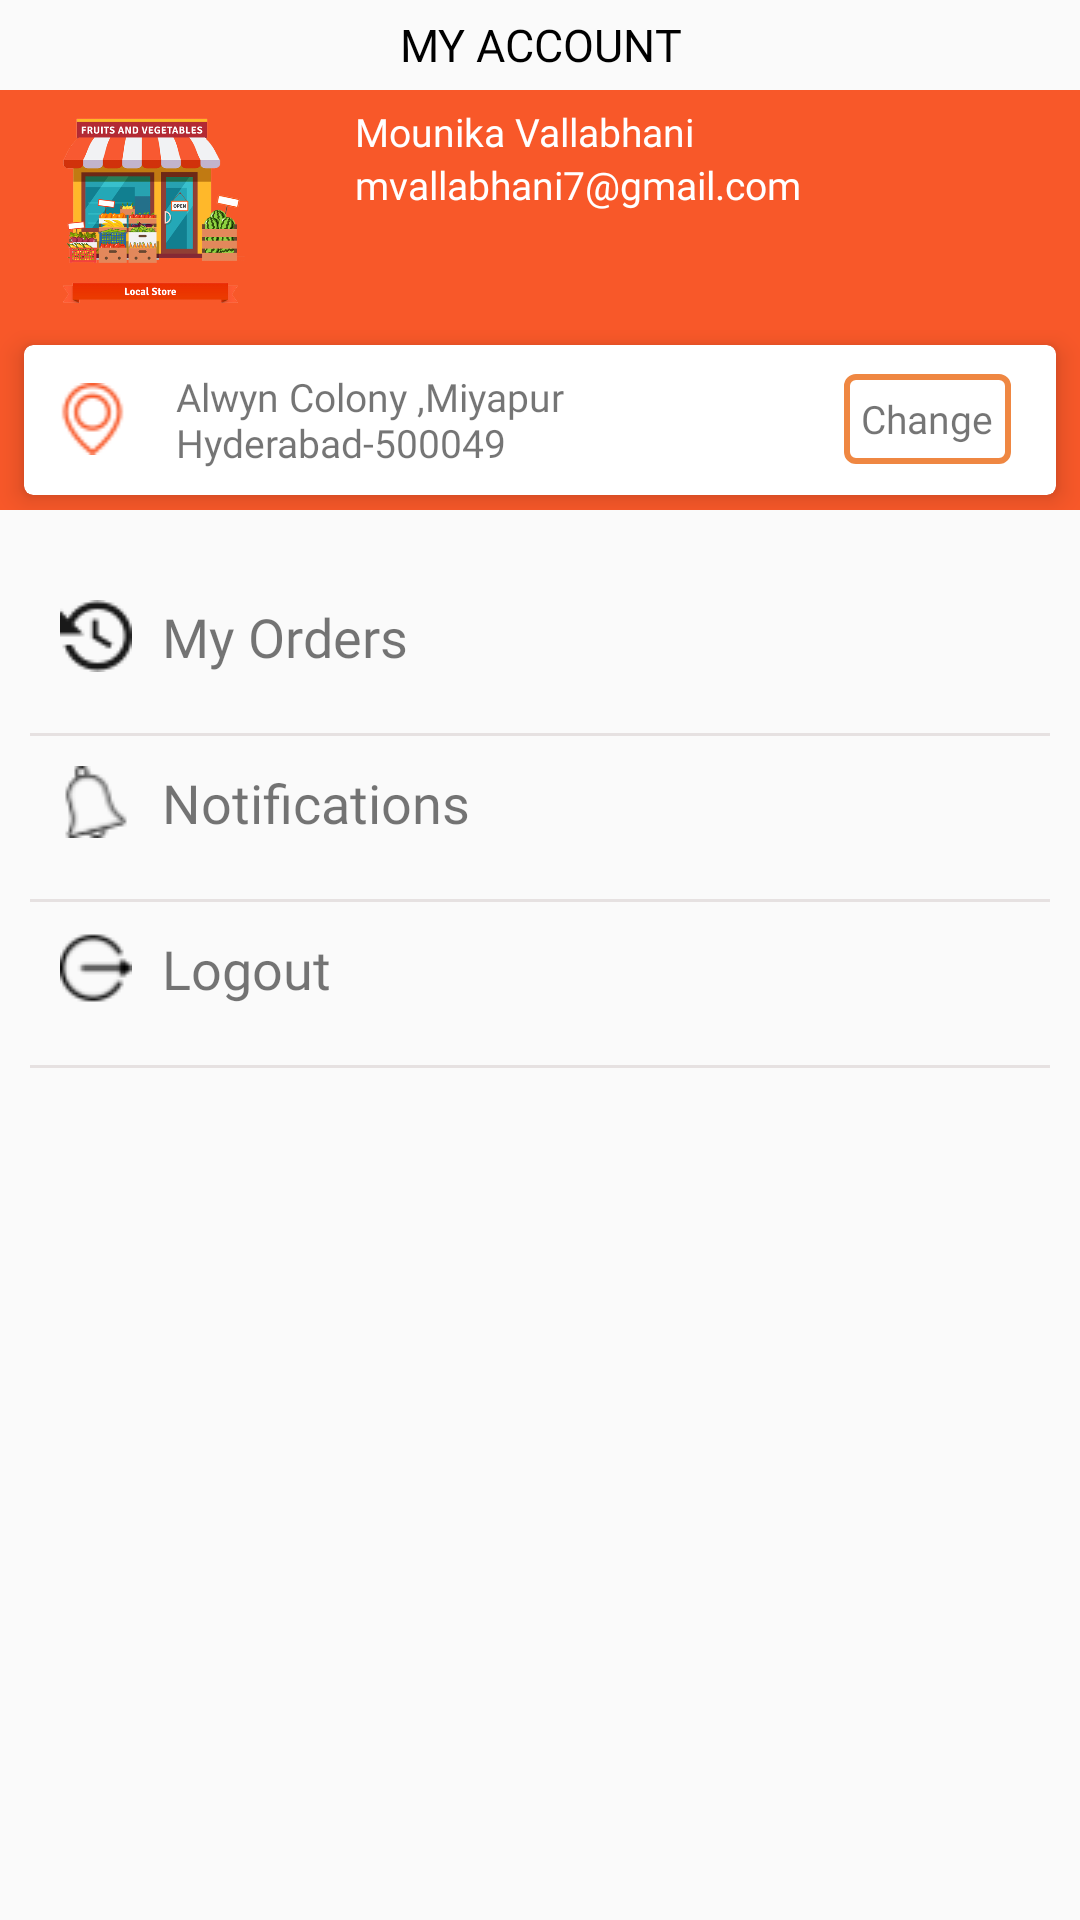

Icon click points for this 1080*1920 phone screenshot, format (x,y):
location: (92,419)
